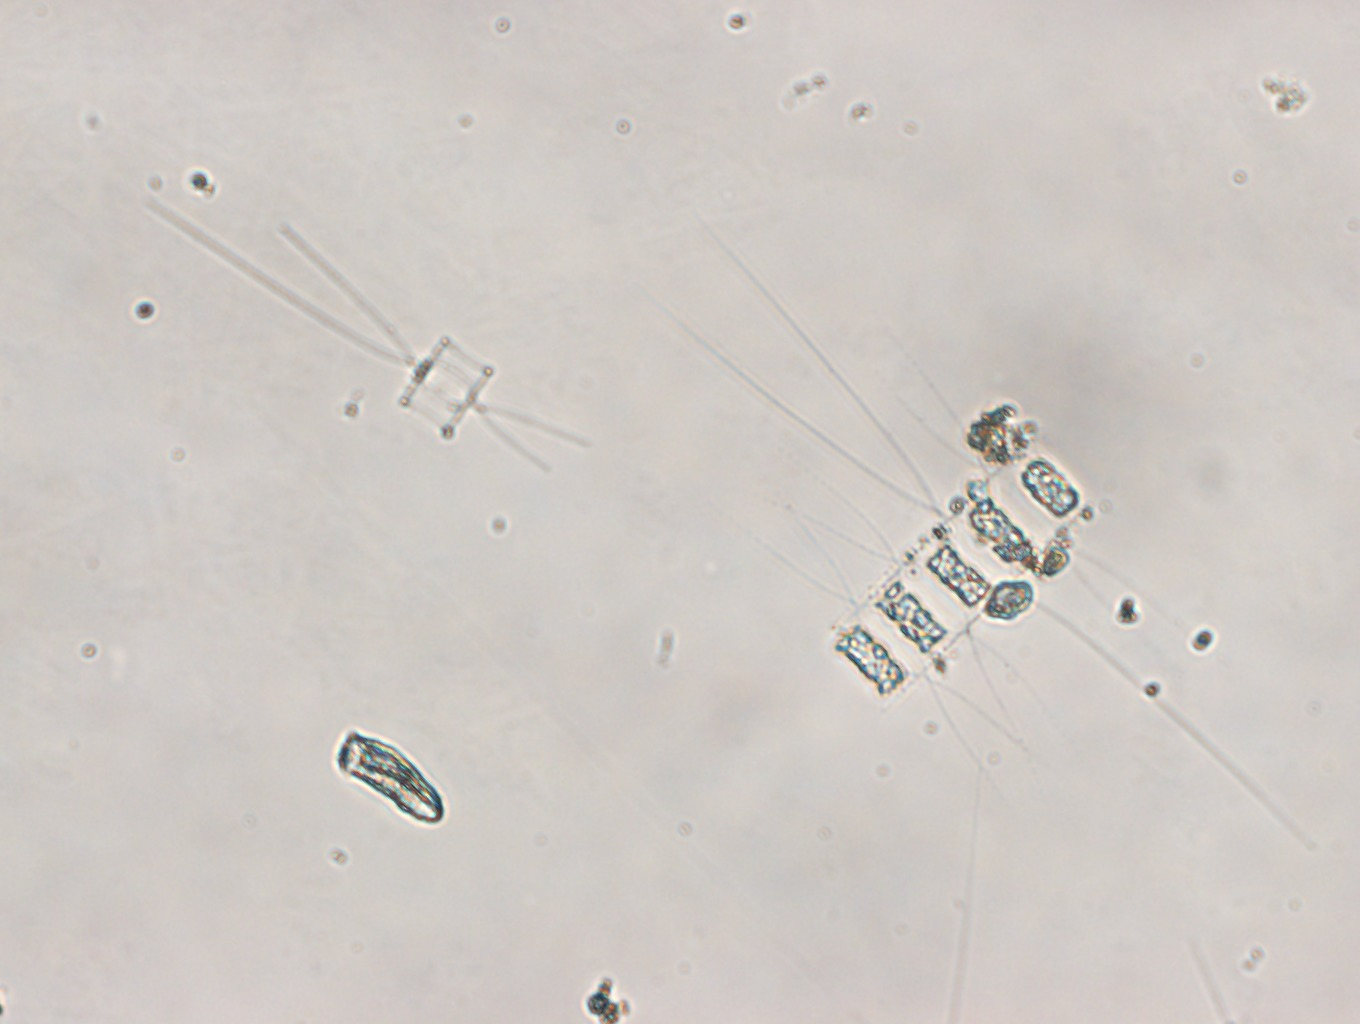chaetoceros: (639, 219, 1319, 858), (147, 198, 589, 472)
